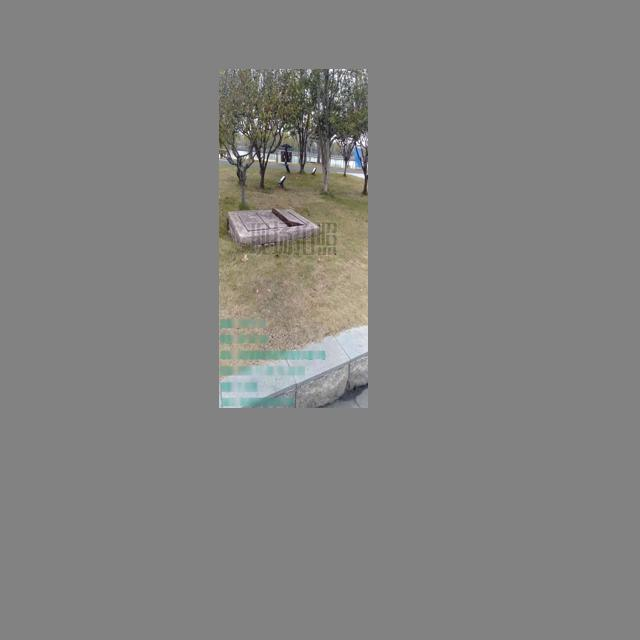uncovered: (229, 205, 326, 238)
